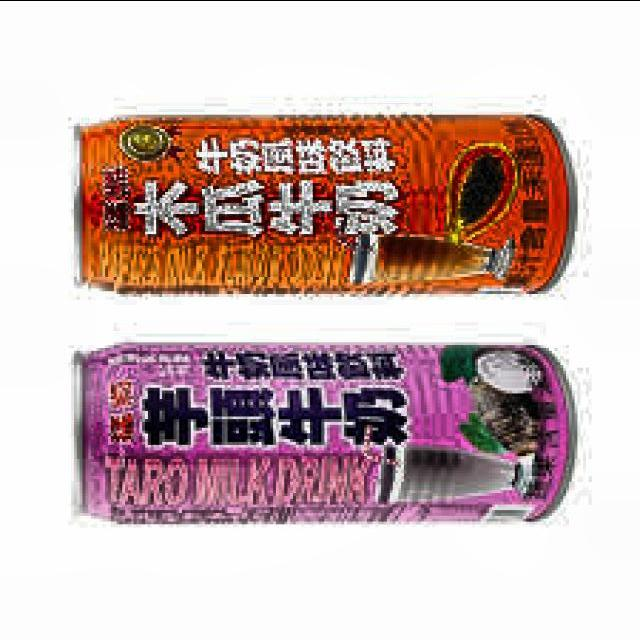litter: (52, 331, 593, 545), (68, 104, 588, 302)
